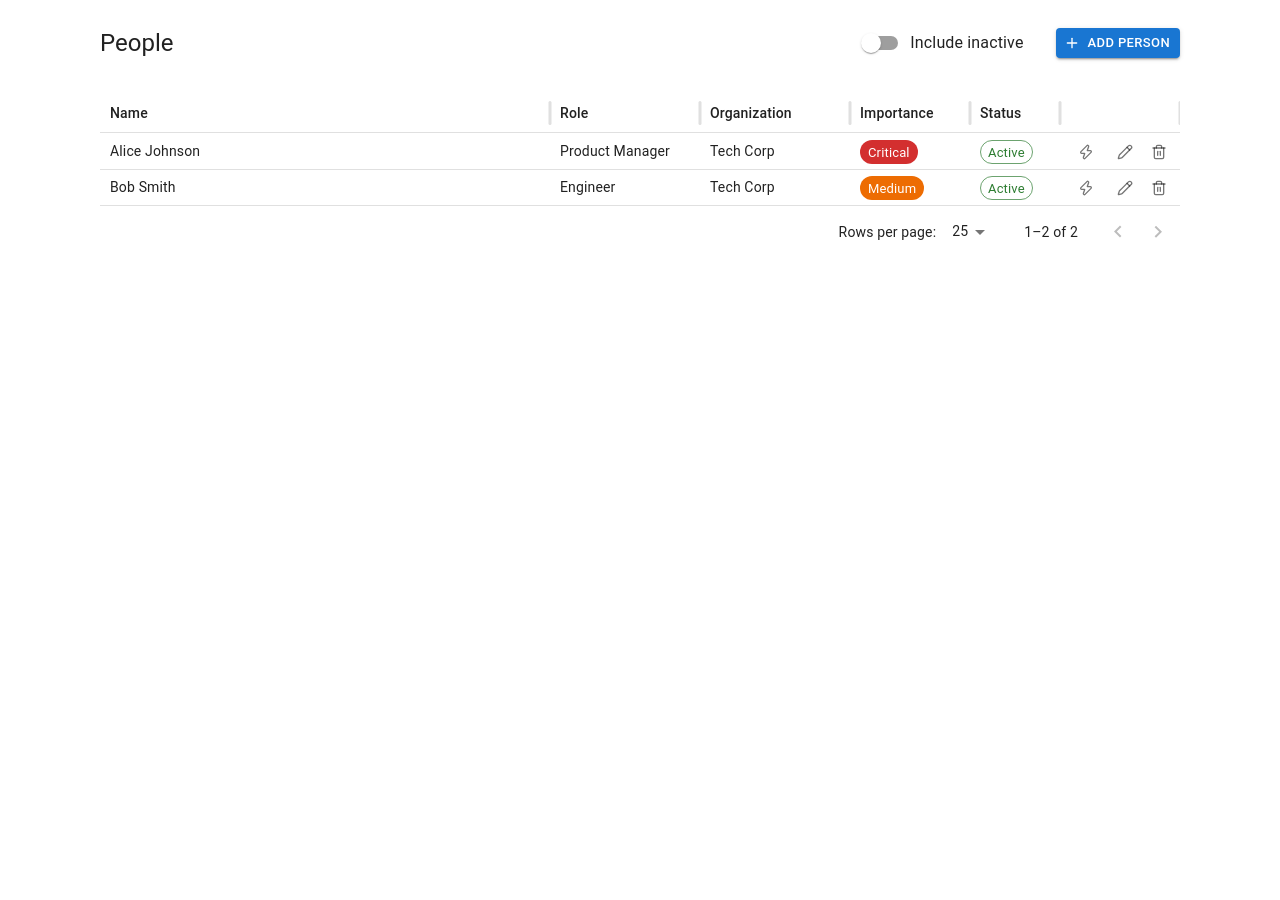
Test: People view › opens delete confirmation dialog when Deactivate button is clicked
Click the button named "Deactivate" in the row of "Alice Johnson" at (1159, 152), box [1146,138,1172,164]
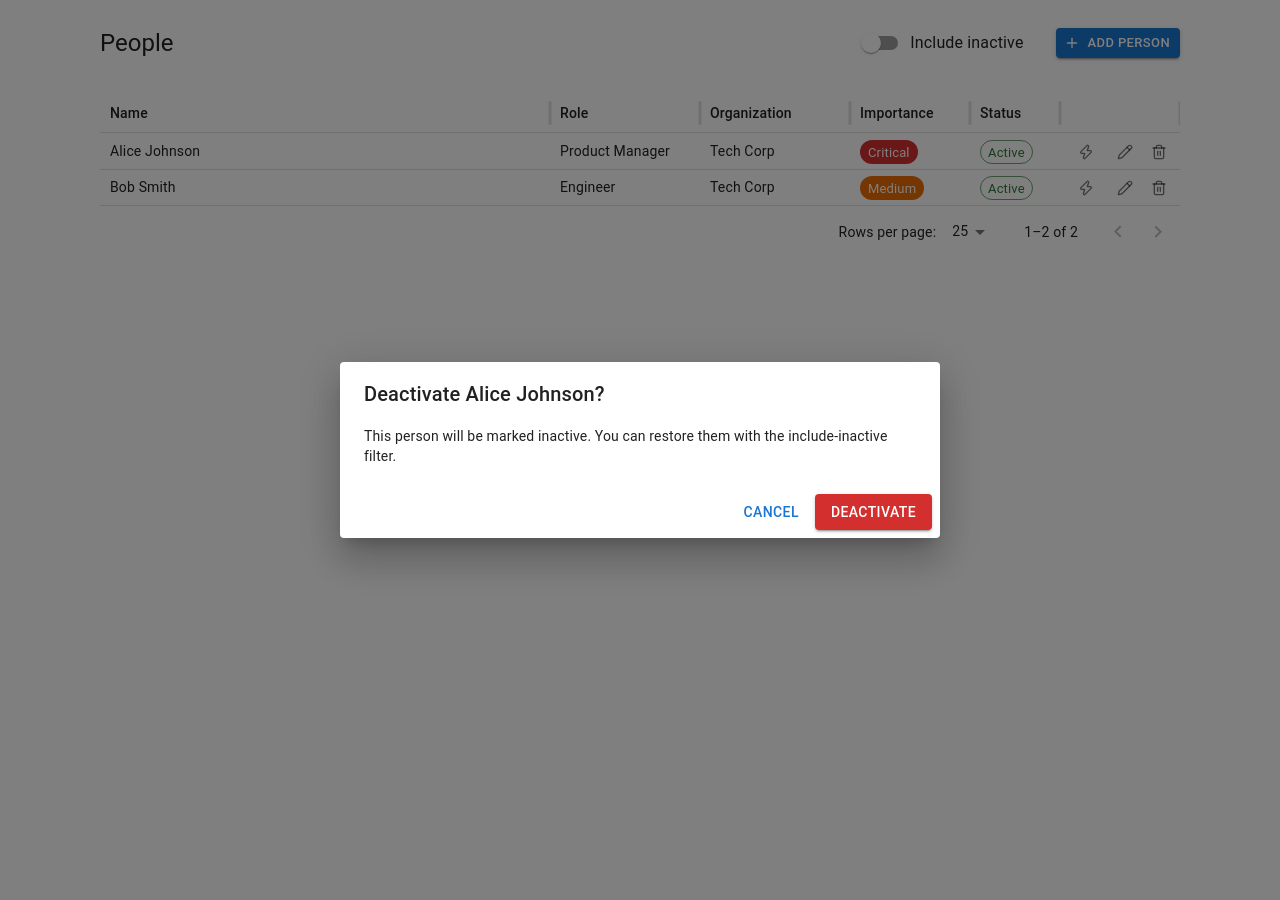
Expected: the heading "Deactivate Alice Johnson?" is shown, [364,382,605,406]
